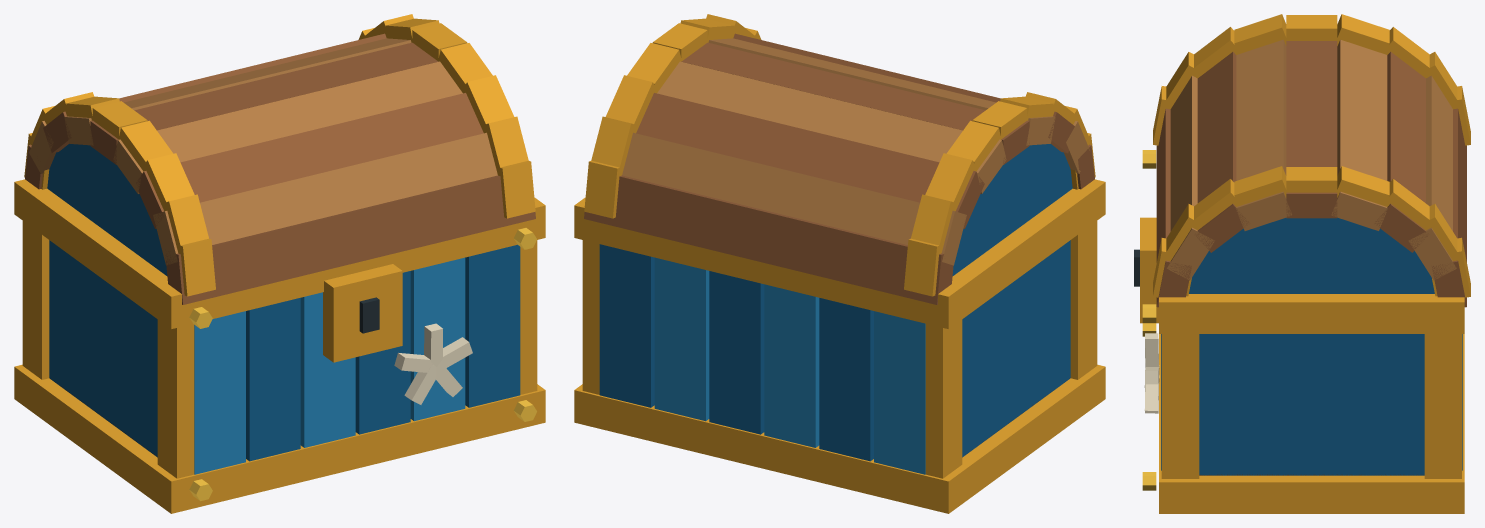
Rendered from treasure_chest.glb.
The picture shows the model from 3 angles, left to right: view 1: azimuth 30°, elevation 25°; view 2: azimuth 150°, elevation 25°; view 3: azimuth 270°, elevation 25°; orthographic projection. The views are drawn at different scales.
Visible parts, largest first — view 1: body__gold.003, lid__wood.003, body__ocean.008, lid__wood2.003, body__ocean2.005, lid__gold.003, lid__ocean.003, body__cream.012, body__yellow2.008, body__dark.012; view 2: body__gold.003, lid__wood.003, body__ocean.008, lid__wood2.003, body__ocean2.005, lid__gold.003, lid__ocean.003; view 3: body__gold.003, body__ocean.008, lid__wood.003, lid__wood2.003, lid__gold.003, lid__ocean.003, body__cream.012, body__yellow2.008.
Boxes of the visible parts, bbox=[...] form: body__gold.003: bbox=[14, 179, 545, 513]; lid__wood.003: bbox=[25, 33, 535, 304]; body__ocean.008: bbox=[49, 240, 520, 461]; lid__wood2.003: bbox=[29, 38, 497, 265]; body__ocean2.005: bbox=[194, 257, 465, 474]; lid__gold.003: bbox=[24, 14, 535, 296]; lid__ocean.003: bbox=[47, 144, 167, 275]; body__cream.012: bbox=[394, 323, 472, 404]; body__yellow2.008: bbox=[189, 228, 537, 501]; body__dark.012: bbox=[359, 297, 379, 333]; body__gold.003: bbox=[574, 179, 1105, 513]; lid__wood.003: bbox=[584, 33, 1094, 304]; body__ocean.008: bbox=[599, 240, 1070, 461]; lid__wood2.003: bbox=[622, 38, 1089, 265]; body__ocean2.005: bbox=[654, 257, 925, 474]; lid__gold.003: bbox=[584, 14, 1095, 296]; lid__ocean.003: bbox=[952, 144, 1072, 275]; body__gold.003: bbox=[1140, 217, 1464, 513]; body__ocean.008: bbox=[1161, 334, 1462, 475]; lid__wood.003: bbox=[1156, 41, 1466, 307]; lid__wood2.003: bbox=[1167, 39, 1456, 280]; lid__gold.003: bbox=[1153, 14, 1470, 297]; lid__ocean.003: bbox=[1189, 217, 1434, 293]; body__cream.012: bbox=[1144, 333, 1159, 413]; body__yellow2.008: bbox=[1142, 150, 1156, 490].
Bounding box in the file's own units: 1.57 × 1.37 × 1.26.
